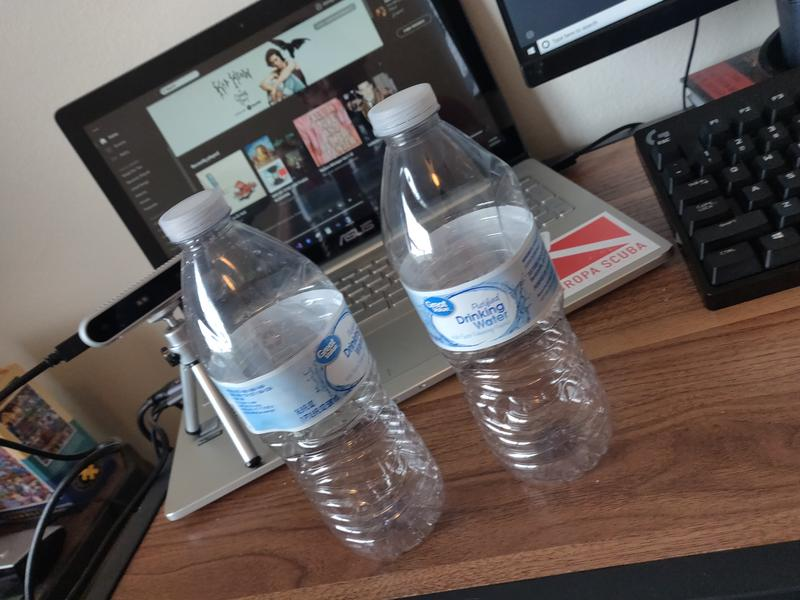bottle: (158, 189, 444, 562), (367, 82, 614, 487)
